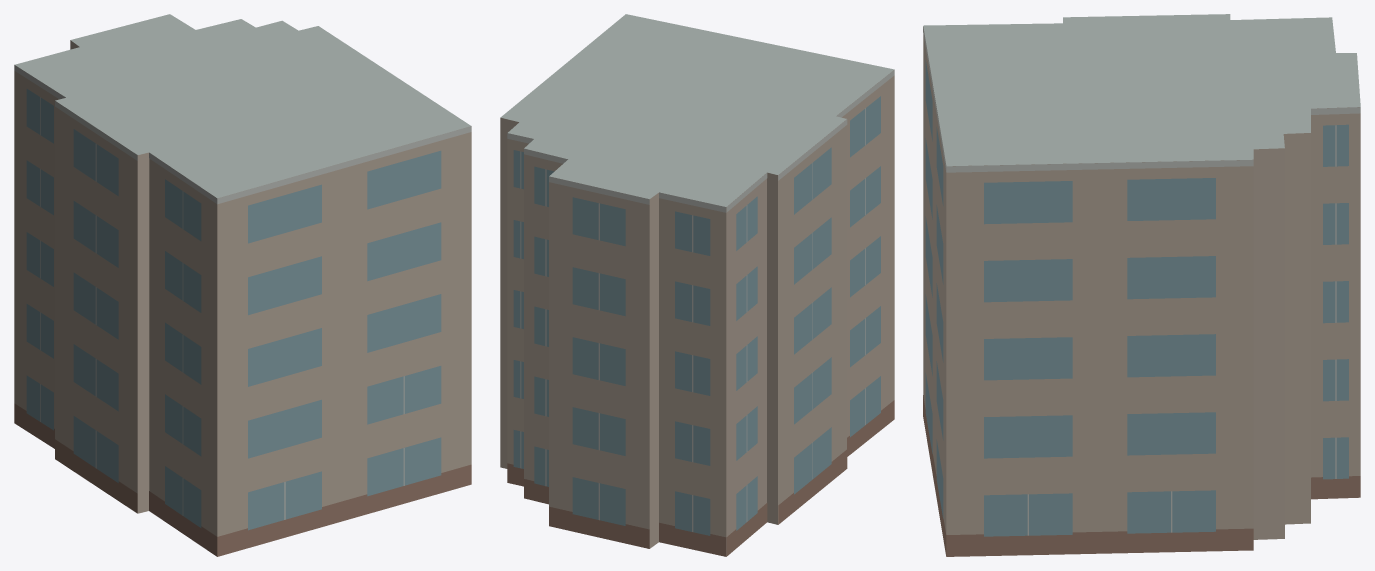
File: survey-upis-32574488.glb
3 views of the same model, side by side, from view 1: azimuth 30°, elevation 25°; view 2: azimuth 150°, elevation 25°; view 3: azimuth 270°, elevation 25° (orthographic). The views are drawn at different scales.
Parts seen in each view (by area): view 1: survey-upis-32574488.tmp; view 2: survey-upis-32574488.tmp; view 3: survey-upis-32574488.tmp.
Part boxes in pixels (x1,y1,x2,y2): survey-upis-32574488.tmp: [14, 14, 471, 556]; survey-upis-32574488.tmp: [500, 14, 894, 556]; survey-upis-32574488.tmp: [923, 14, 1360, 556].
Bounding box in the file's own units: 12.38 × 14.8 × 15.04.
